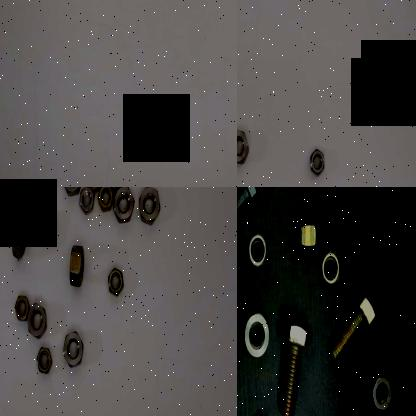Bolts: (328, 280, 382, 369), (272, 309, 312, 416), (237, 187, 264, 230)
NUTS: (242, 308, 272, 362), (288, 213, 322, 251), (136, 187, 162, 229), (60, 325, 84, 370), (66, 238, 84, 294), (244, 230, 266, 274), (24, 300, 48, 340), (368, 373, 393, 410), (8, 218, 28, 264), (316, 248, 340, 286), (110, 187, 136, 222), (105, 263, 124, 297), (38, 208, 56, 242), (237, 125, 250, 169), (34, 346, 53, 376), (308, 146, 326, 176), (94, 187, 114, 214), (76, 187, 96, 214), (13, 292, 29, 322), (249, 403, 273, 416), (57, 187, 85, 196), (83, 187, 103, 194)
